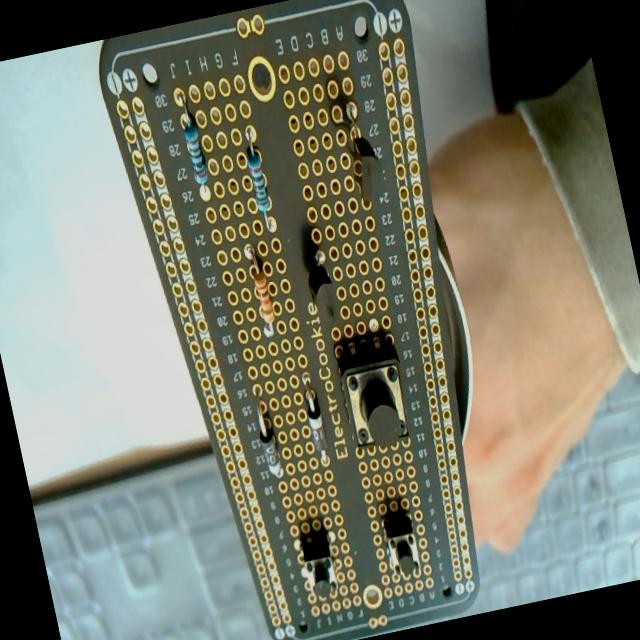diode: (252, 399, 285, 480), (302, 386, 331, 464)
resistor: (242, 132, 277, 230), (175, 97, 211, 191), (244, 241, 279, 334)
switch: (334, 336, 416, 454), (380, 506, 423, 580), (298, 528, 340, 601)
transistor: (336, 101, 386, 208), (298, 246, 348, 350)
